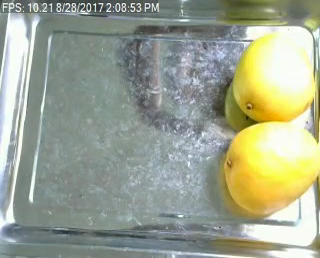Mango: (227, 122, 320, 213), (230, 32, 318, 120)
